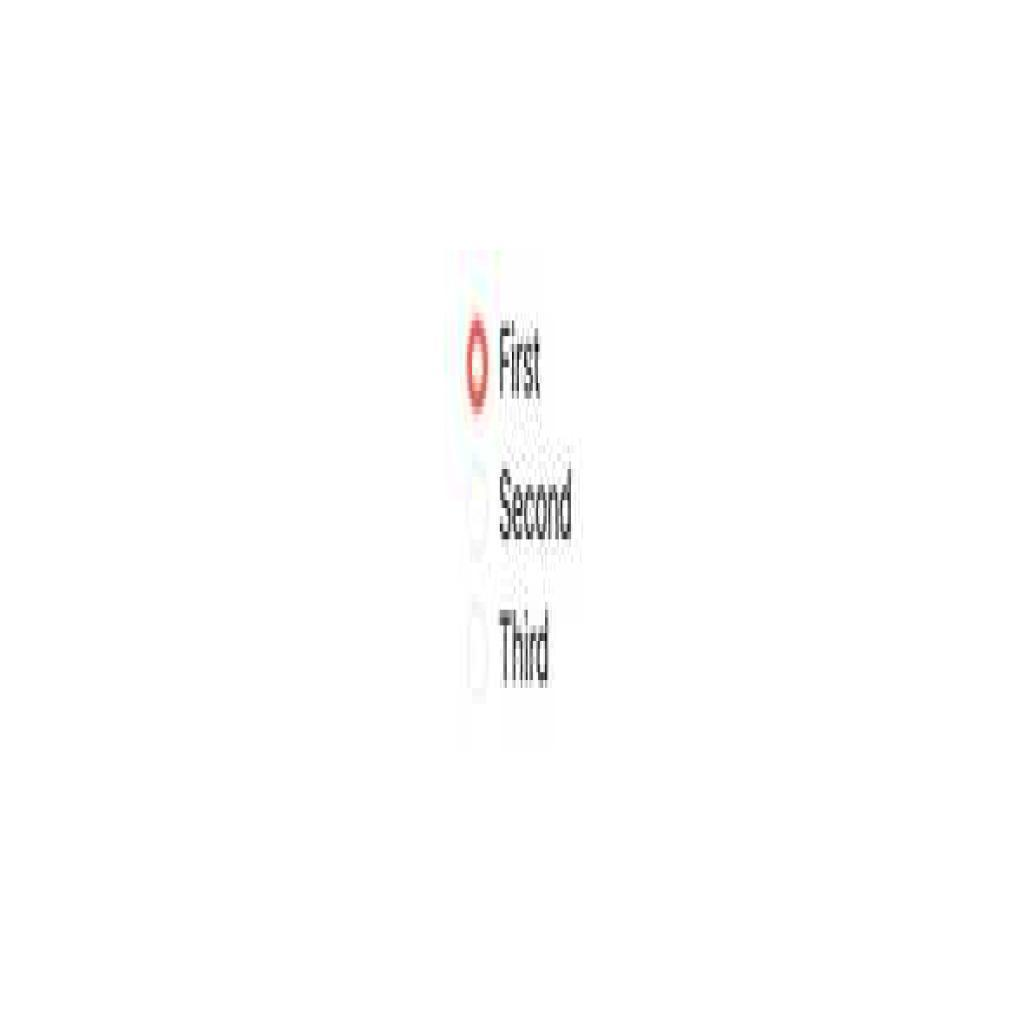radio: (462, 600, 495, 697), (460, 465, 495, 553), (465, 308, 491, 419)
